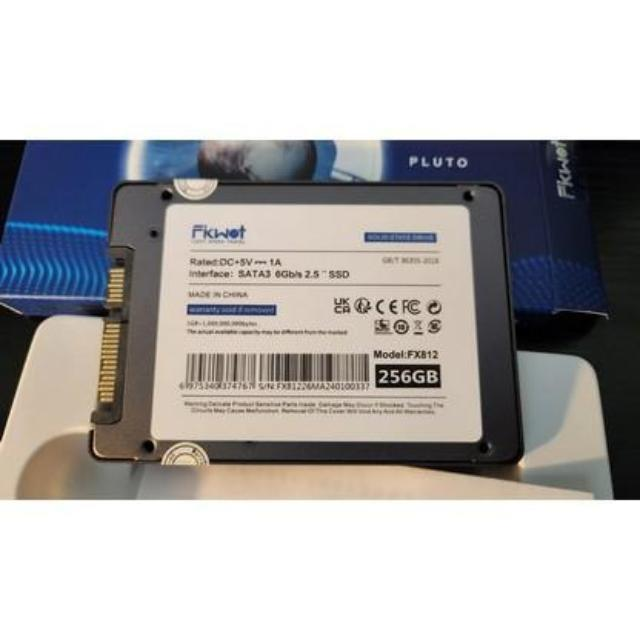DISK: (90, 164, 532, 472)
